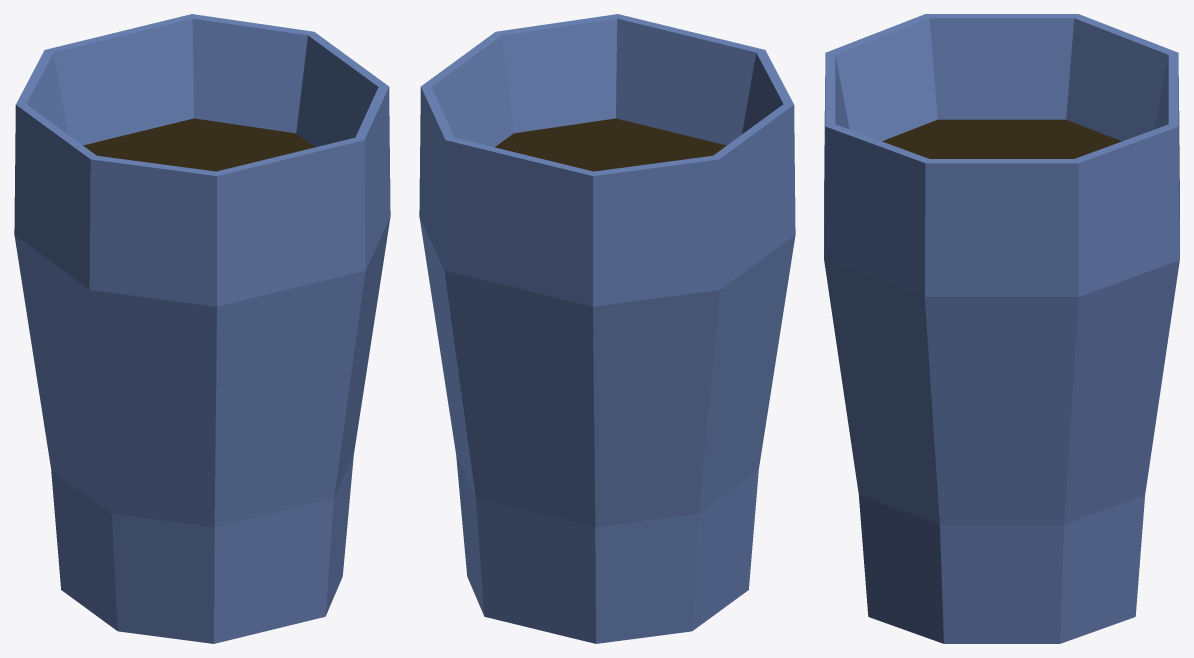
Rendered from PlantPot-Large_02.fbx.
3 views of the same model, side by side, from view 1: azimuth 30°, elevation 25°; view 2: azimuth 150°, elevation 25°; view 3: azimuth 270°, elevation 25° (orthographic). The views are drawn at different scales.
Visible parts, largest first — view 1: PlantPotLarge_02; view 2: PlantPotLarge_02; view 3: PlantPotLarge_02.
Boxes of the visible parts, <box> form: PlantPotLarge_02: <box>14,14,390,643</box>; PlantPotLarge_02: <box>419,14,795,643</box>; PlantPotLarge_02: <box>824,14,1179,643</box>.
Bounding box in the file's own units: 0.3374 × 0.5343 × 0.3374.
